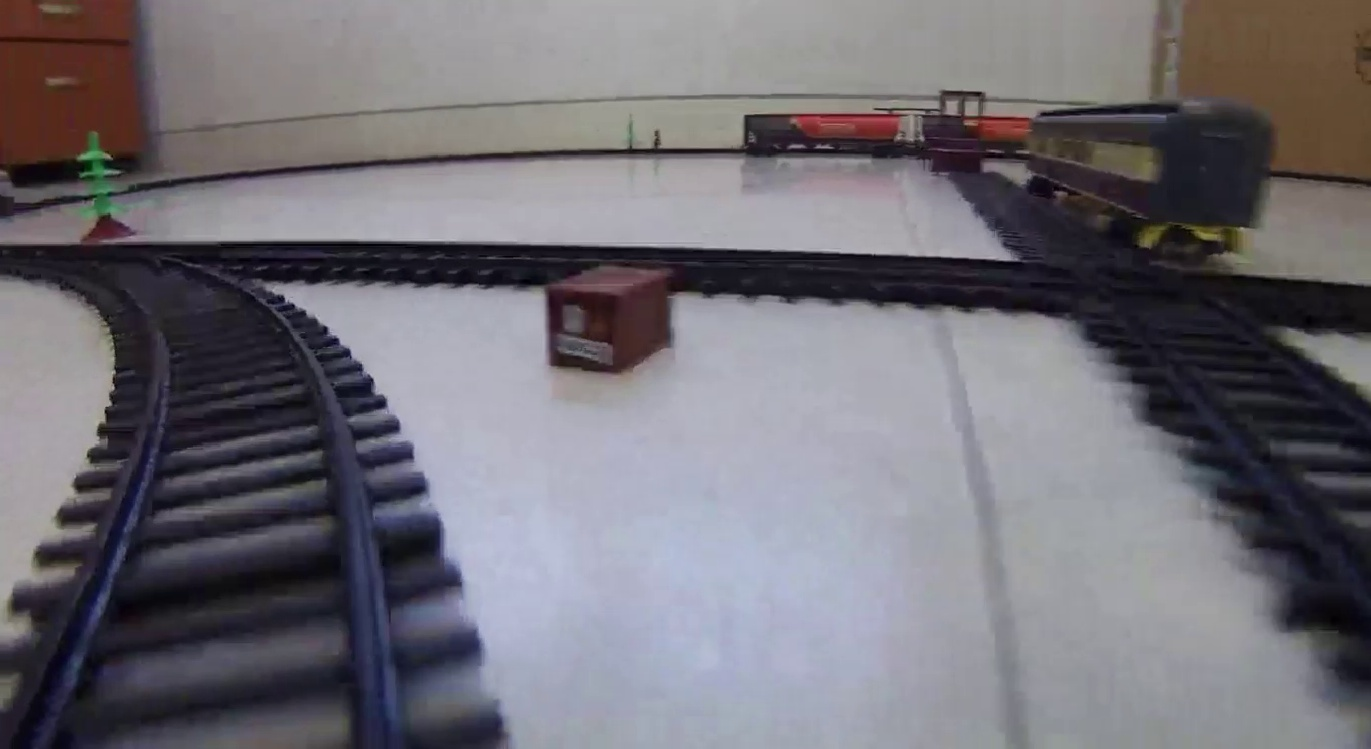box: (547, 261, 672, 377)
